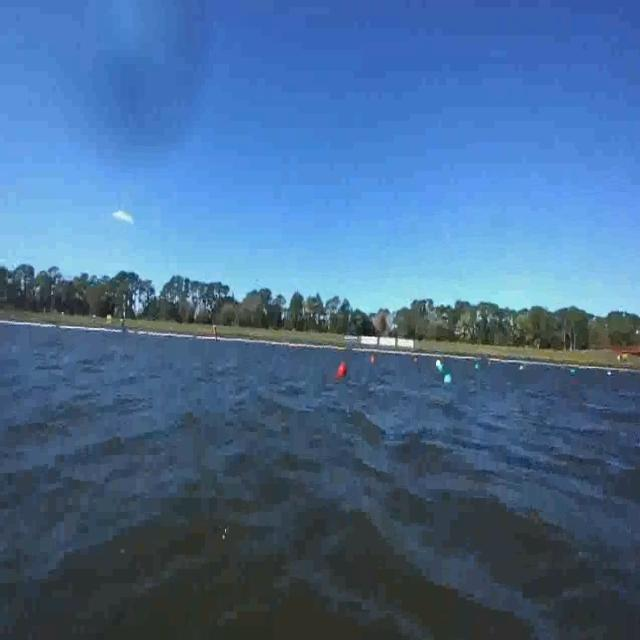red-buoy: (338, 361, 350, 378)
